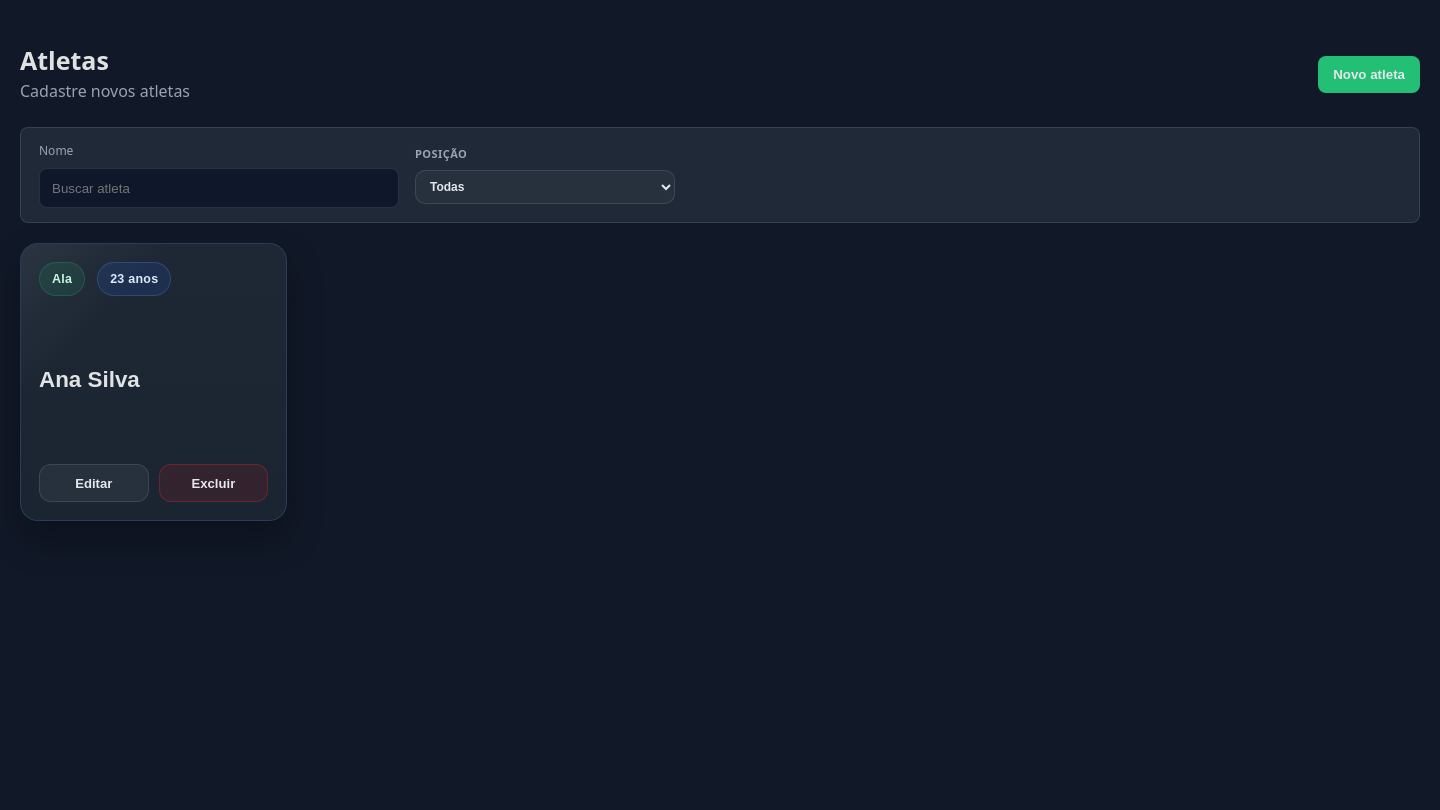
AthleteRegistrationScreen editing › shows the backend message when PUT responds with 400
The width and height of the screenshot is (1440, 810).
Step 1. Click the button with aria-label "Editar Ana Silva" → (94, 483), box [39,464,149,502]
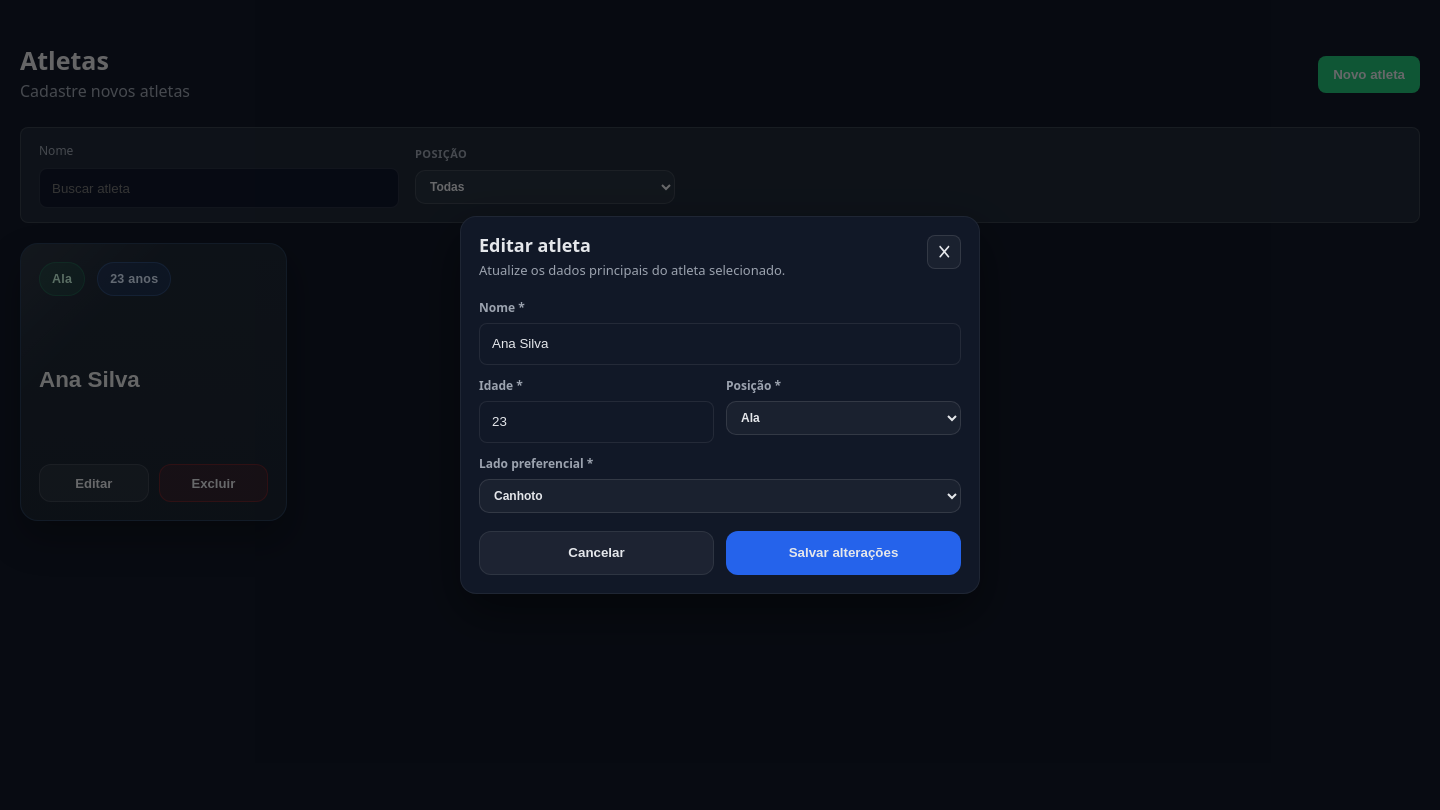
Check: the dropdown labelled "Posição *" shows "Ala", box [726,400,961,434]
Check: the dropdown labelled "Lado preferencial *" shows "Canhoto", box [479,478,961,512]
Step 2. Click the button "Salvar alterações" → (844, 552), box [726,530,961,574]
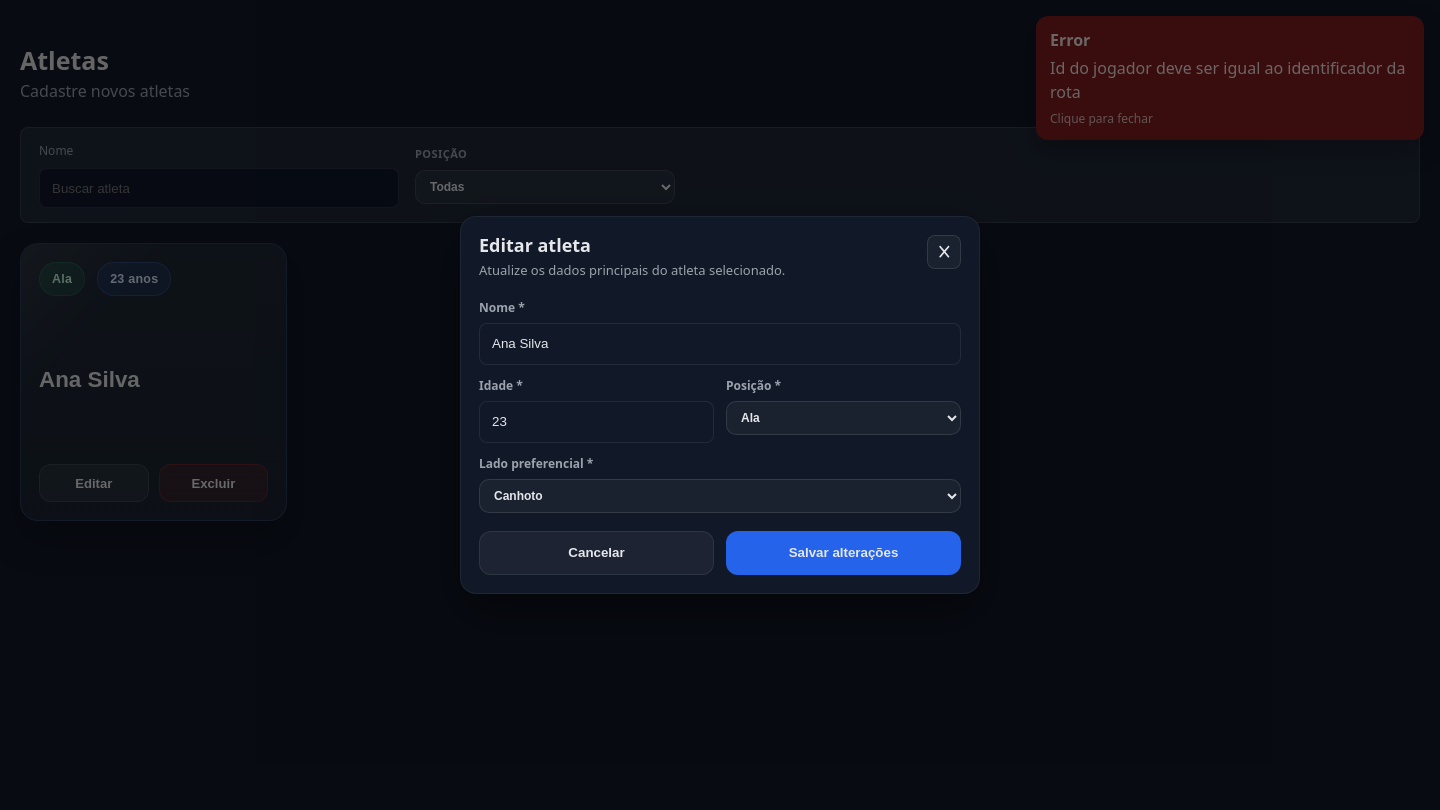
Check: the heading "Editar atleta" is shown, box [479,234,591,258]
Check: the text "Id do jogador deve ser igual ao identificador da rota" is shown, box [1050,56,1410,104]
